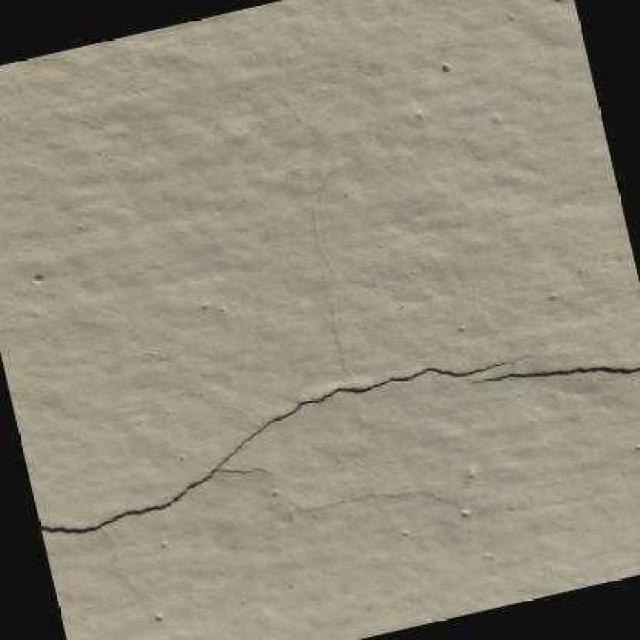D00: (39, 357, 521, 534), (477, 367, 640, 382)
